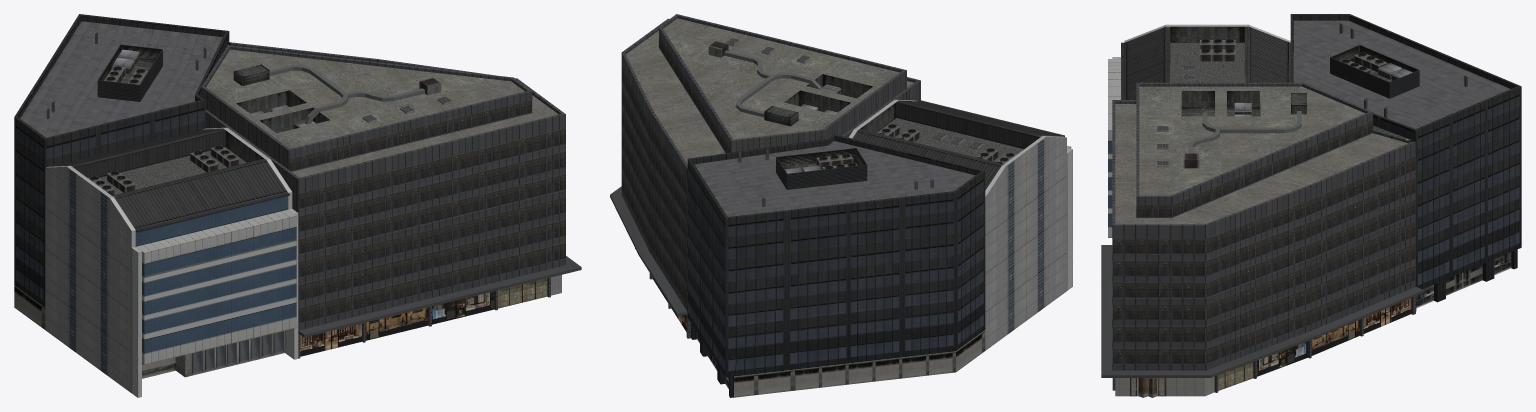
3 renders of one model, left to right at view 1: azimuth 30°, elevation 25°; view 2: azimuth 150°, elevation 25°; view 3: azimuth 270°, elevation 25°, orthographic. The views are drawn at different scales.
Bounding box in the file's own units: 6551 × 2923 × 5662.
1 material, 1 textured.
